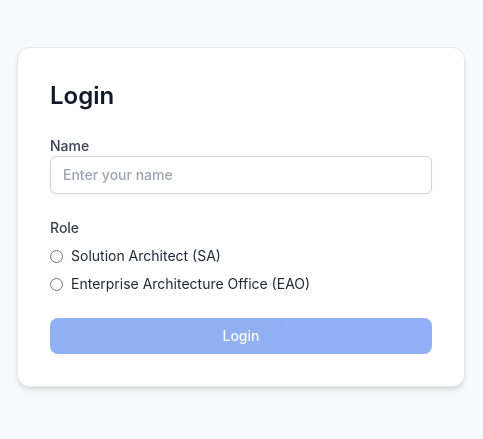
Test case: Login Component › displays generic error message when error has no message
In the field labelled "Name": (241, 175) x1=50 y1=156 x2=432 y2=194, type "John Doe"
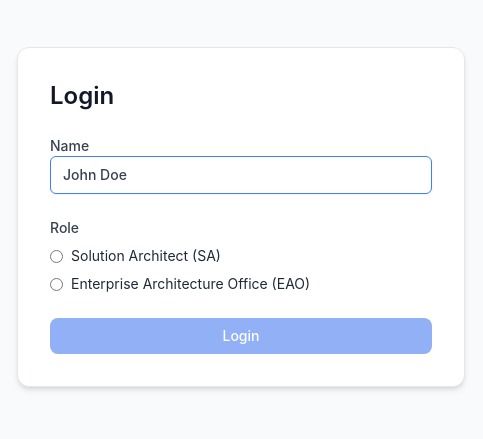
Click the radio button labelled "Solution Architect (SA)": (56, 256) x1=50 y1=250 x2=63 y2=262
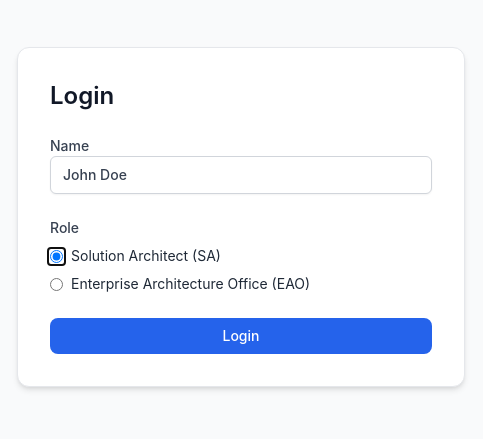
Click the button "Login": (241, 336) x1=50 y1=318 x2=432 y2=354
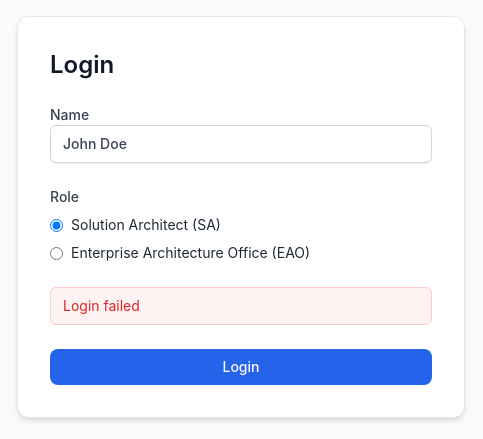
Expected: the text "Login failed" is shown, x1=50 y1=287 x2=432 y2=325
